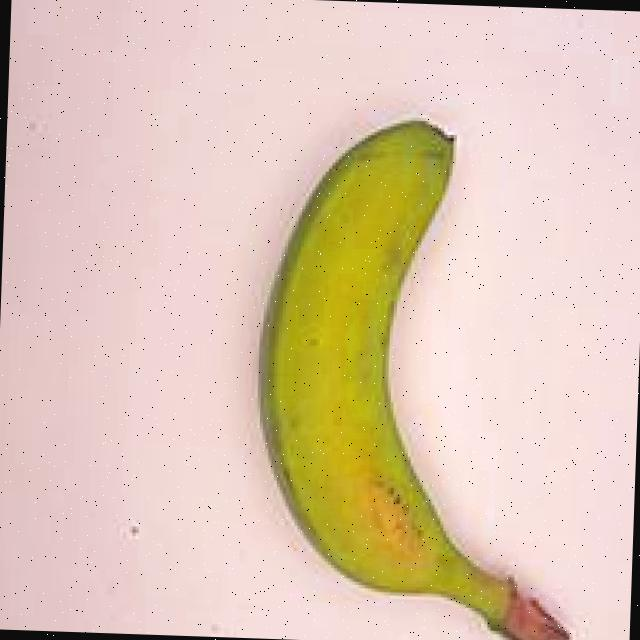Unripe: (236, 82, 625, 640)
